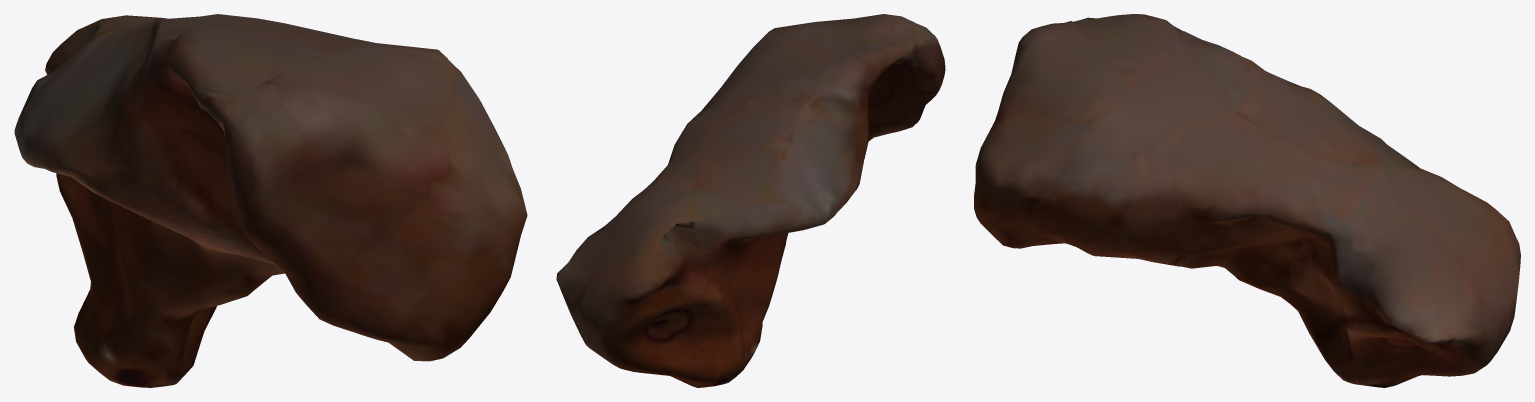
Rendered from hall.glb.
3 views of the same model, side by side, from view 1: azimuth 30°, elevation 25°; view 2: azimuth 150°, elevation 25°; view 3: azimuth 270°, elevation 25° (orthographic). The views are drawn at different scales.
Bounding box in the file's own units: 0.3751 × 0.4537 × 0.6805.
1 material, 1 textured.
